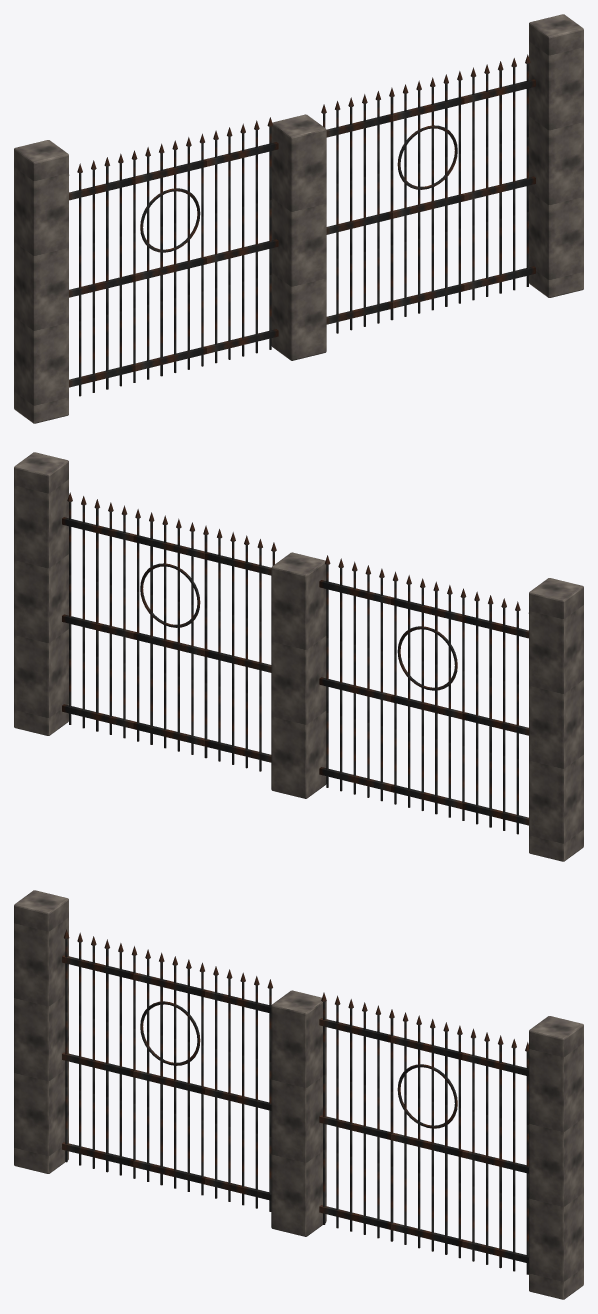
Rendered from ST19_LargeIronGate.glb.
3 renders of one model, top to bottom at view 1: azimuth 30°, elevation 25°; view 2: azimuth 150°, elevation 25°; view 3: azimuth 330°, elevation 25°, orthographic.
Visible parts, largest first — view 1: ST19_LargeIronGate; view 2: ST19_LargeIronGate; view 3: ST19_LargeIronGate.
Boxes of the visible parts, x1,y1,x2,y2 form: ST19_LargeIronGate: [14, 14, 583, 423]; ST19_LargeIronGate: [14, 452, 583, 861]; ST19_LargeIronGate: [14, 890, 583, 1299].
Bounding box in the file's own units: 3.5 × 1.59 × 0.2273.
Materials: 2 (2 with a texture image).
